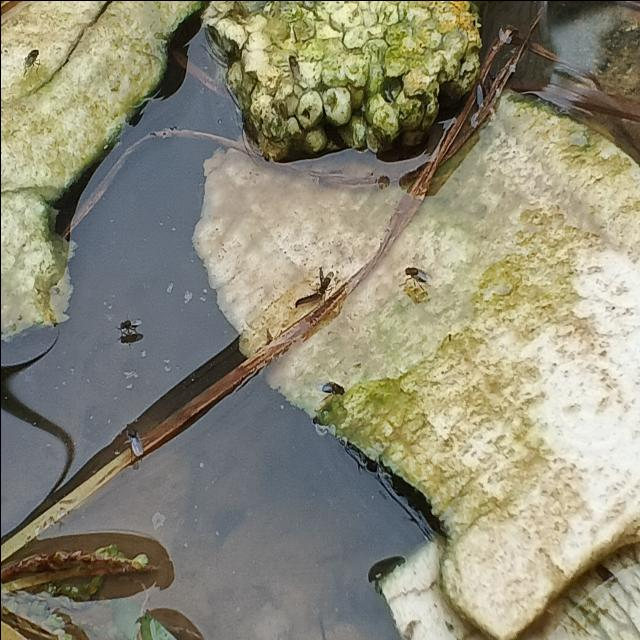Breeding Place: (0, 29, 472, 640)
